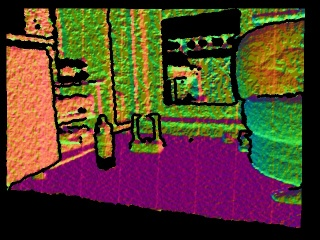station: (130, 113, 165, 154)
